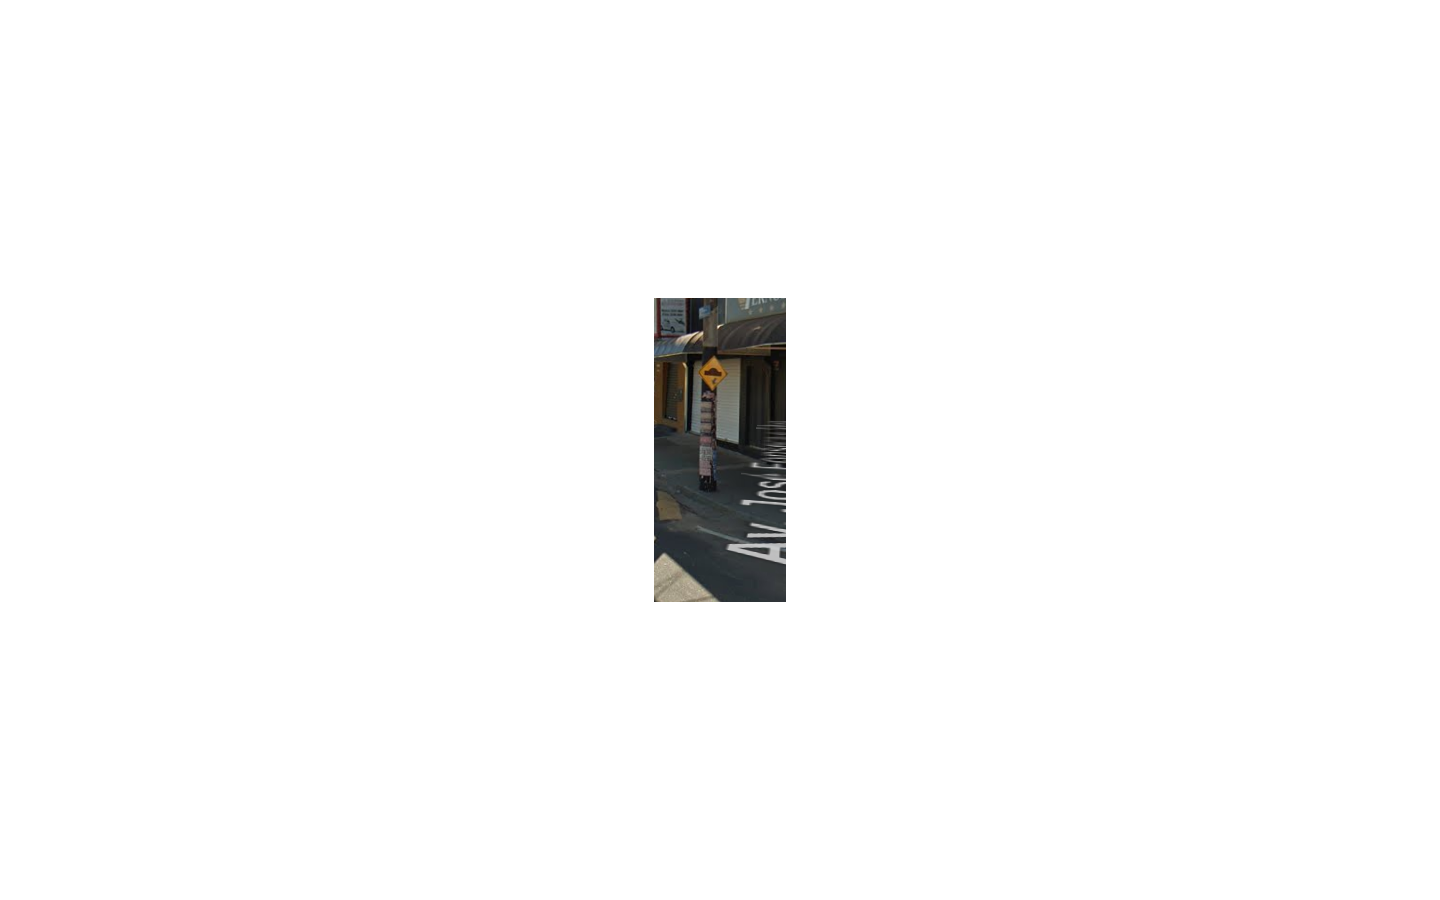lomb: (698, 356, 728, 391)
